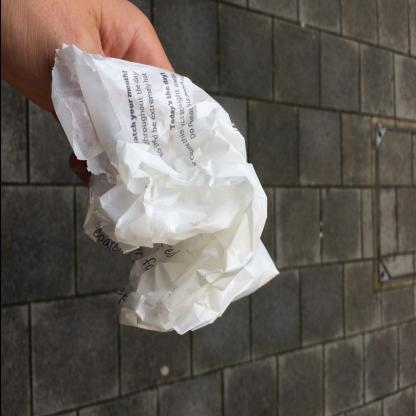kagit: (50, 46, 281, 337)
